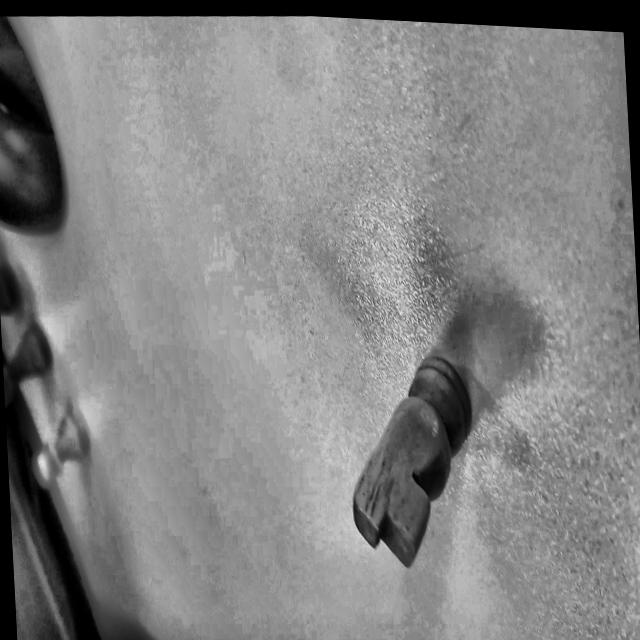white-knight: (342, 305, 496, 638)
